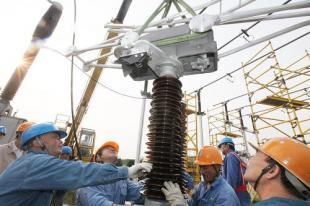gloves: (160, 180, 185, 205), (128, 162, 153, 178)
hard-hat: (259, 136, 310, 193), (20, 122, 66, 147), (194, 144, 223, 165), (217, 136, 233, 146)
person: (0, 120, 153, 205), (75, 140, 151, 206), (161, 145, 241, 206), (242, 135, 310, 206), (218, 136, 251, 205), (0, 121, 36, 175)
